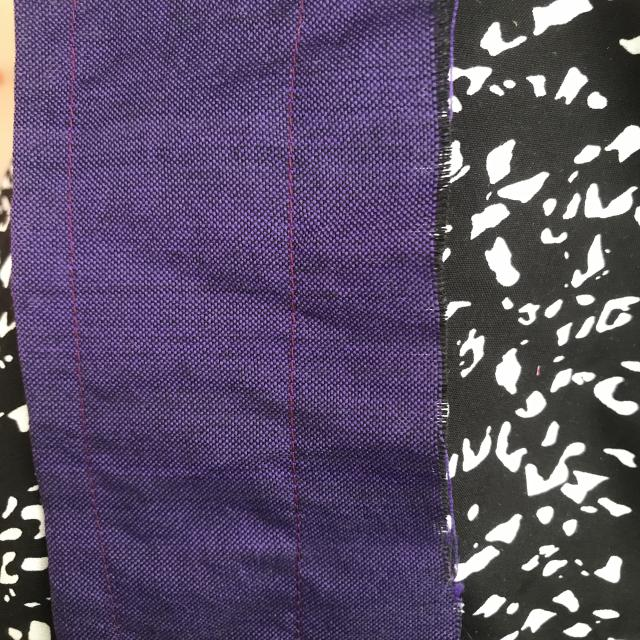good: (273, 352, 310, 494), (280, 152, 306, 277)
